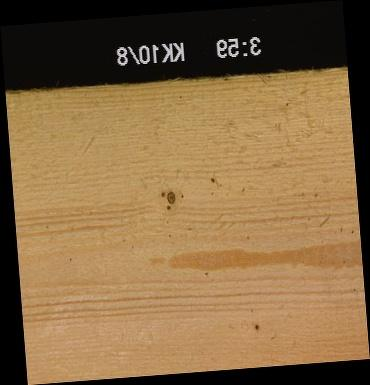dry_knot: (165, 189, 177, 204)
small_knot: (162, 204, 173, 211), (253, 322, 261, 331), (210, 175, 216, 184)
